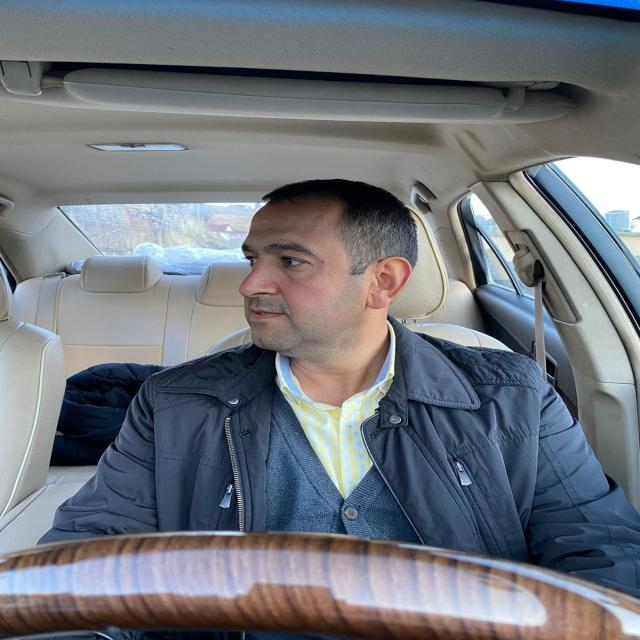LeftRight: (228, 179, 423, 361)
